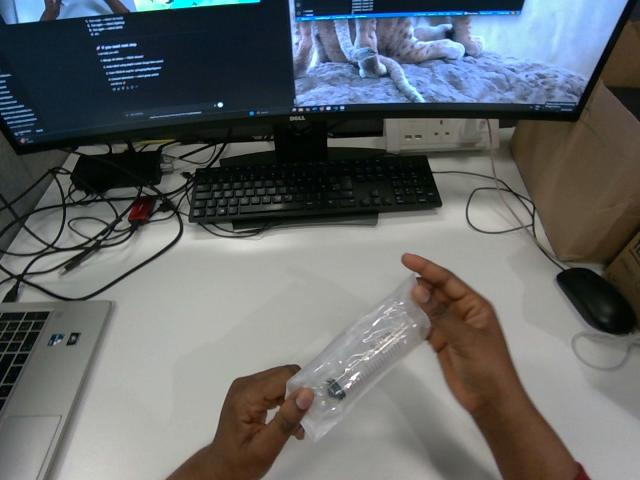syringe: (287, 276, 430, 440)
